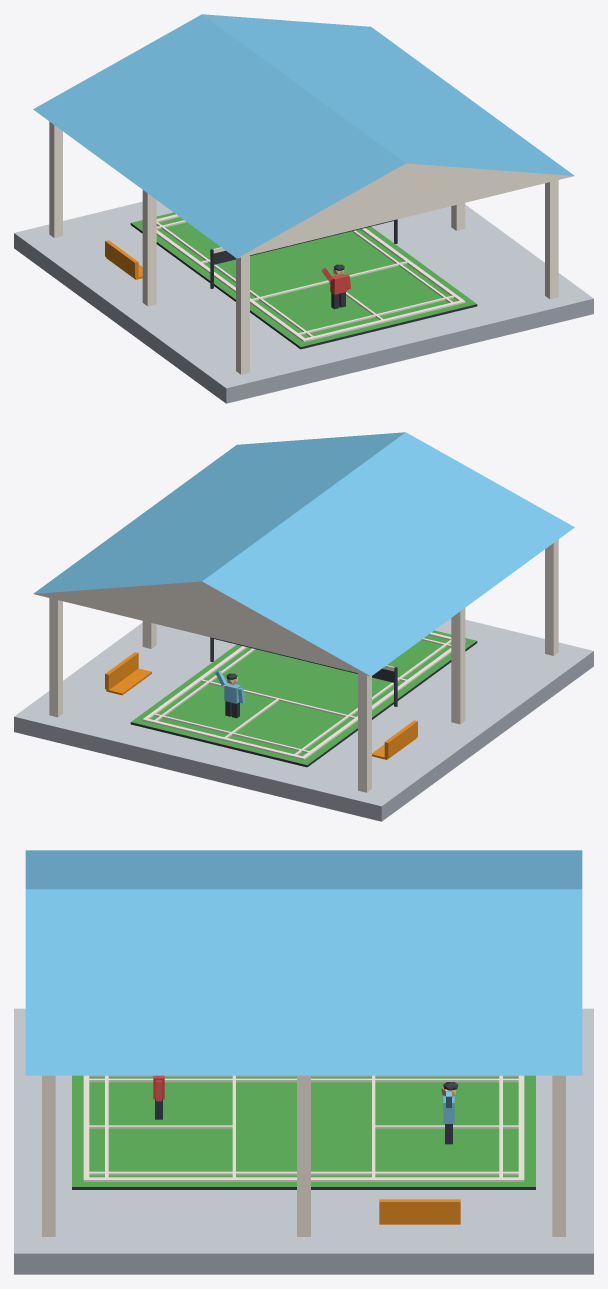
The model's file is sport_badminton.glb.
The picture shows the model from 3 angles, top to bottom: view 1: azimuth 30°, elevation 25°; view 2: azimuth 150°, elevation 25°; view 3: azimuth 270°, elevation 25°; orthographic projection. The views are drawn at different scales.
Parts seen in each view (by area): view 1: sport_badminton; view 2: sport_badminton; view 3: sport_badminton.
Boxes of the visible parts, left/top/right/bottom form: sport_badminton: left=14, top=14, right=593, bottom=403; sport_badminton: left=14, top=432, right=593, bottom=821; sport_badminton: left=14, top=850, right=593, bottom=1274.
Size of the model in its own units: 1 by 0.5 by 1.
